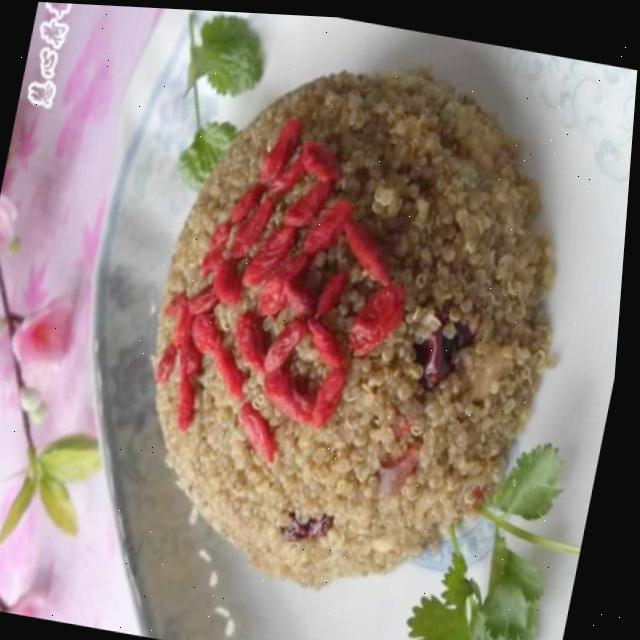米饭主食: (26, 20, 617, 637)
